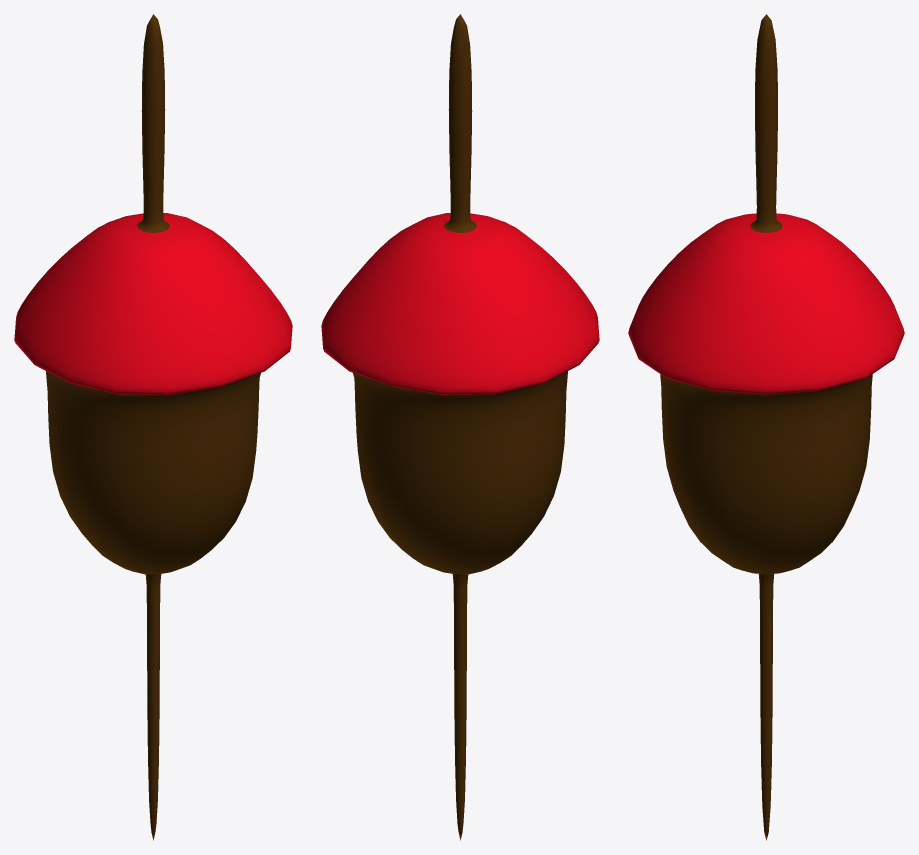
The model's file is FishingFloat.fbx.
3 views of the same model, side by side, from view 1: azimuth 30°, elevation 25°; view 2: azimuth 150°, elevation 25°; view 3: azimuth 270°, elevation 25° (orthographic).
Parts seen in each view (by area): view 1: FishingFloat; view 2: FishingFloat; view 3: FishingFloat.
Boxes of the visible parts, <box> form: FishingFloat: <box>14,14,292,840</box>; FishingFloat: <box>321,14,599,840</box>; FishingFloat: <box>628,14,904,840</box>.
Size of the model in its own units: 230 by 759 by 230.
